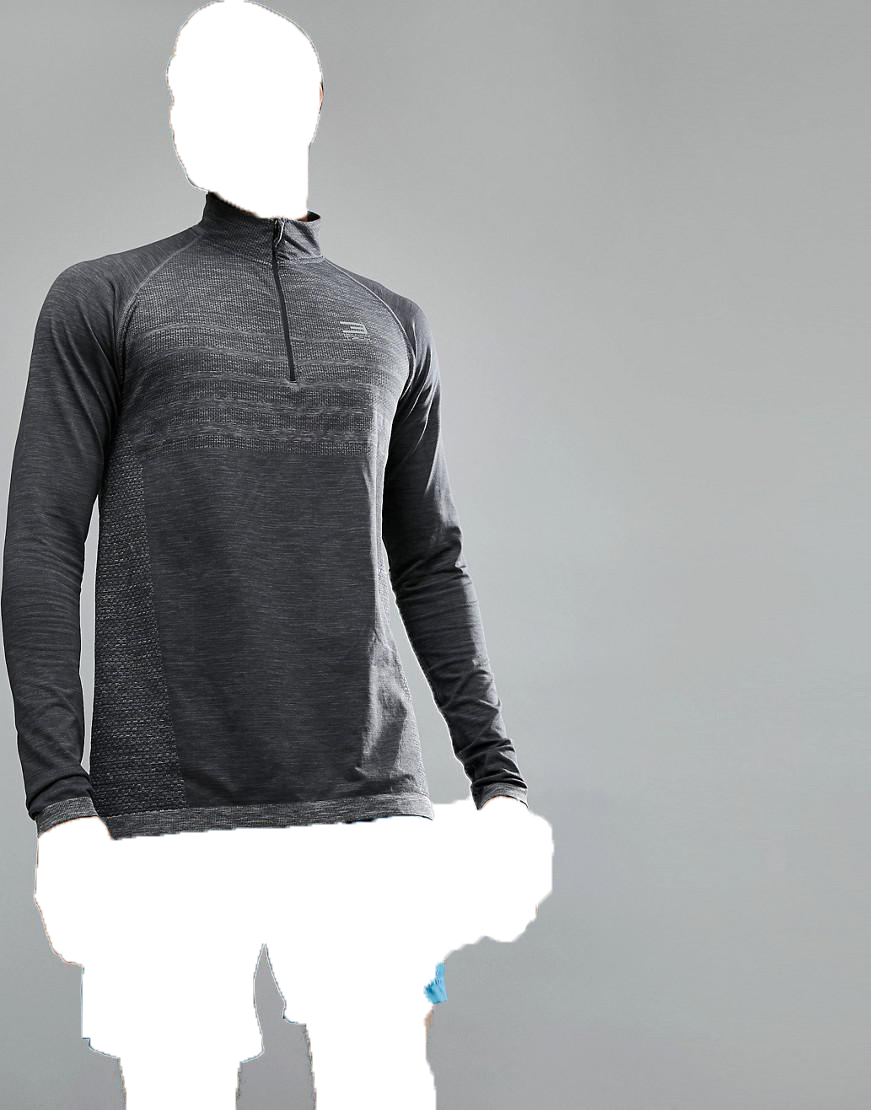teeshirt: (3, 195, 537, 842)
